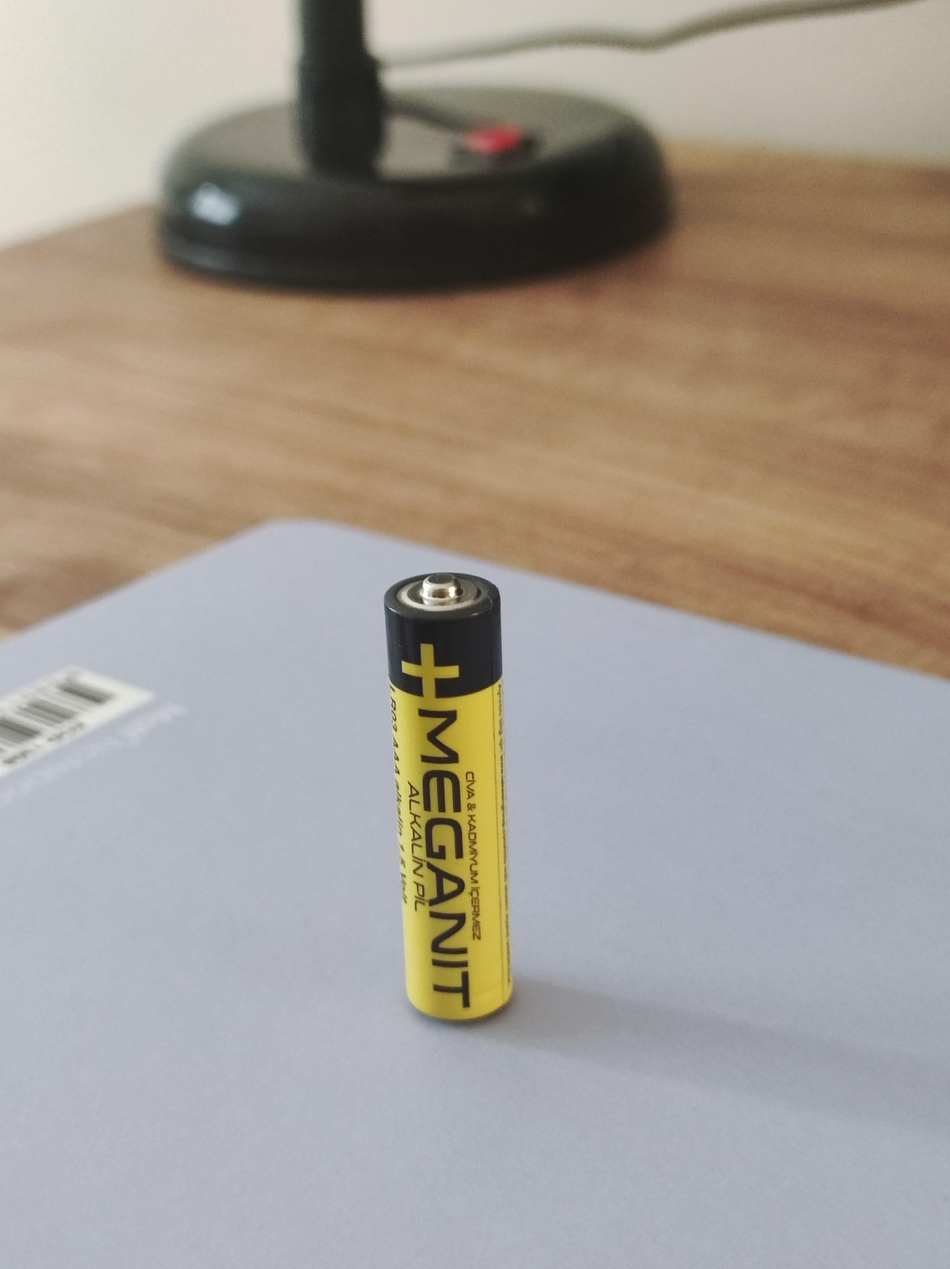AAA: (382, 570, 513, 1022)
